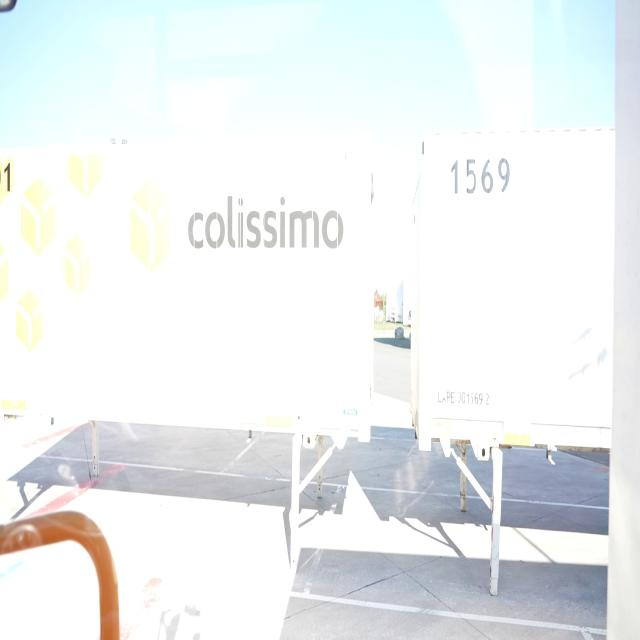Code: (450, 150, 512, 200)
